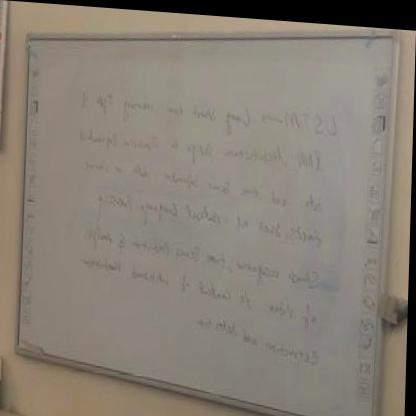Handwritten text: (71, 247, 329, 334), (81, 179, 337, 257), (75, 215, 330, 293), (63, 72, 346, 142), (54, 113, 330, 176), (77, 155, 342, 216), (175, 302, 331, 377)
Whiteboard: (1, 1, 401, 416)
